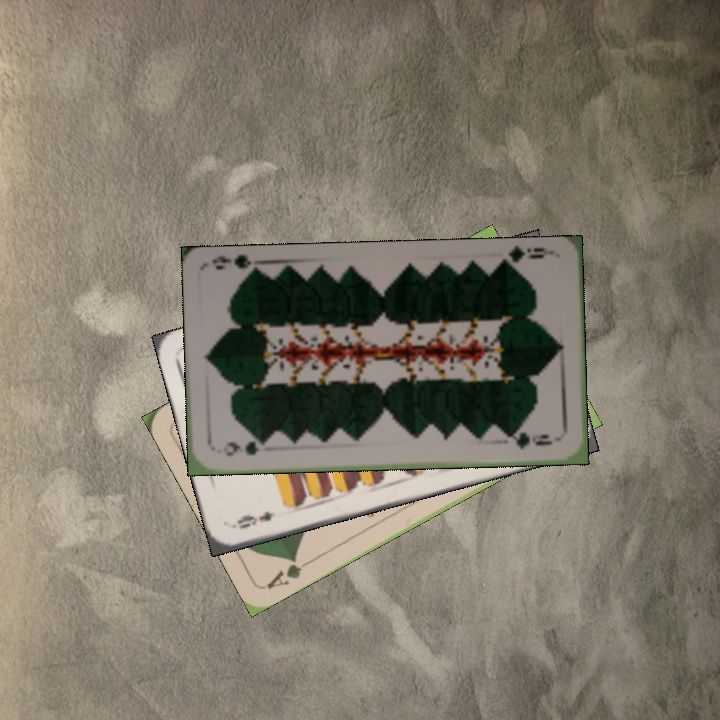E9: (229, 506, 276, 532)
G9: (497, 244, 556, 271), (219, 438, 262, 459)
GA: (262, 553, 316, 592)
